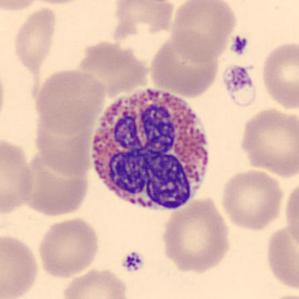Eosinophil: (85, 80, 216, 218)
Platelets: (220, 62, 258, 109), (120, 249, 145, 274), (230, 34, 249, 56)
RBC: (158, 195, 234, 275), (147, 30, 222, 98), (32, 67, 107, 134), (237, 105, 298, 179), (168, 0, 238, 63), (218, 167, 285, 232), (36, 216, 102, 279), (79, 43, 152, 98), (10, 4, 60, 75), (110, 0, 178, 47), (0, 133, 36, 216), (259, 39, 299, 112), (0, 231, 41, 299), (262, 220, 298, 294), (60, 266, 131, 299), (283, 176, 299, 256), (0, 0, 47, 13), (0, 59, 8, 131), (19, 0, 93, 6), (259, 290, 298, 299)
